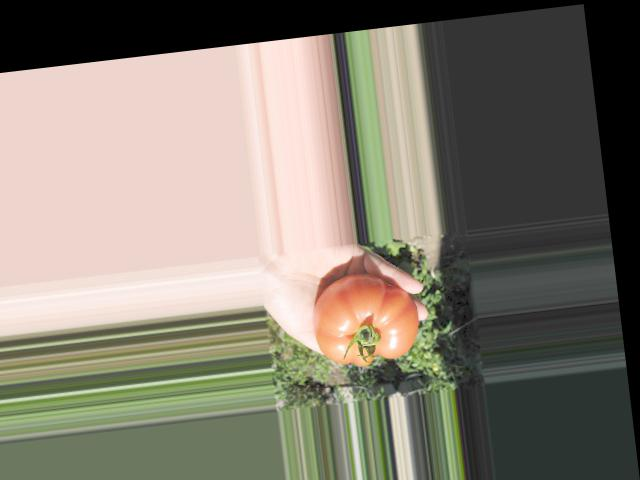tomato: (309, 268, 424, 371)
